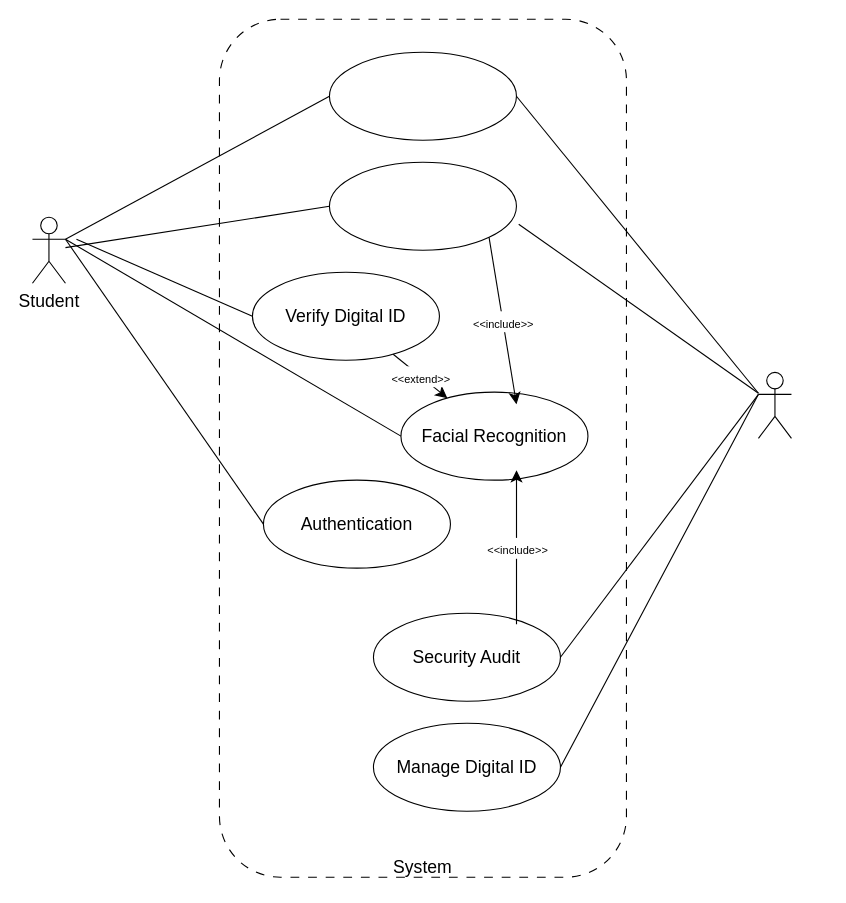
Some shapes in this 846 by 903 pixel diagram are drawn without their labels. Here are the shapes that lost their labels. From the top down, the centre of each, then its label:
pixel 422 95: Update Personal Information
pixel 422 205: Generate Digital ID
pixel 774 404: Administrator
